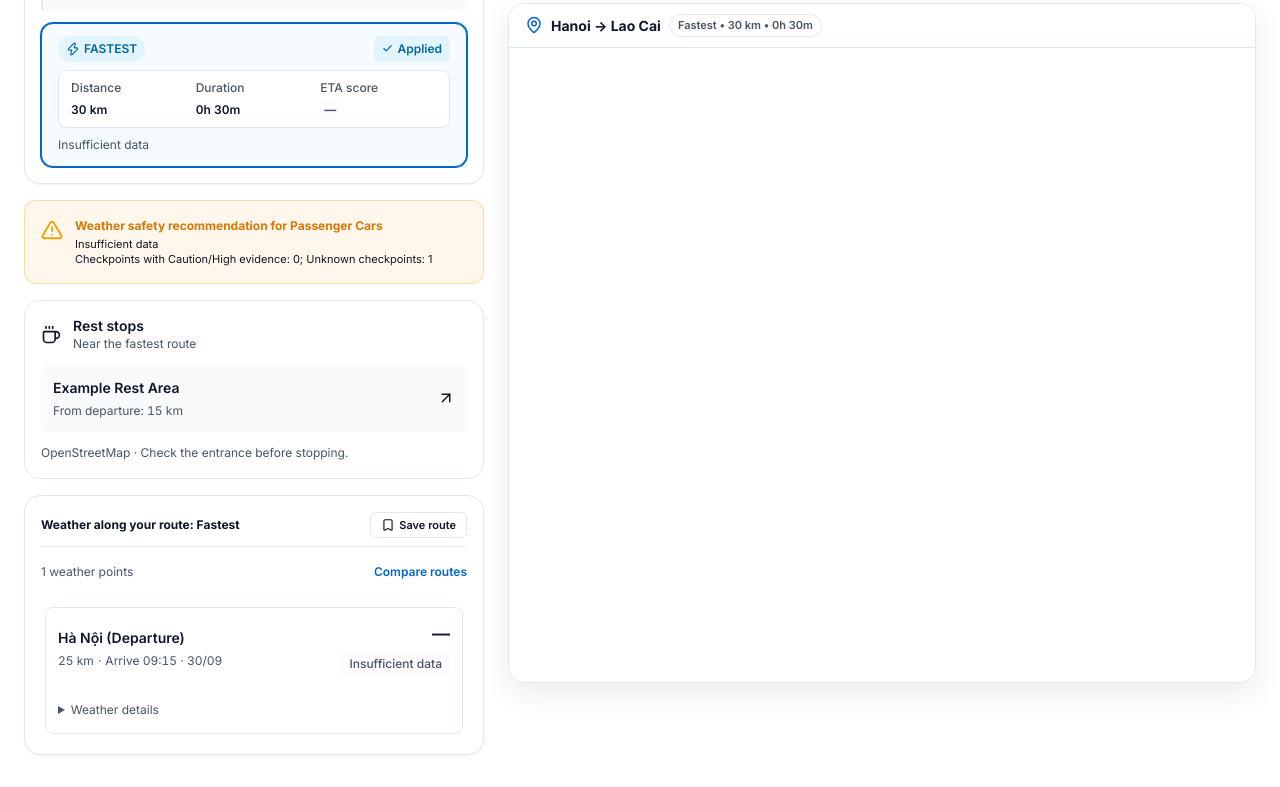
route request inputs › shows checkpoint risk, readable evidence gaps and exact Vietnam ETA
(page scrolled)
Expected: the text "Insufficient data" is shown, left=342, top=651, right=450, bottom=677
Expected: the text "25 km" is shown, left=58, top=652, right=94, bottom=670
Click the heading "Weather details": coordinates (115, 710) left=71, top=702, right=159, bottom=717
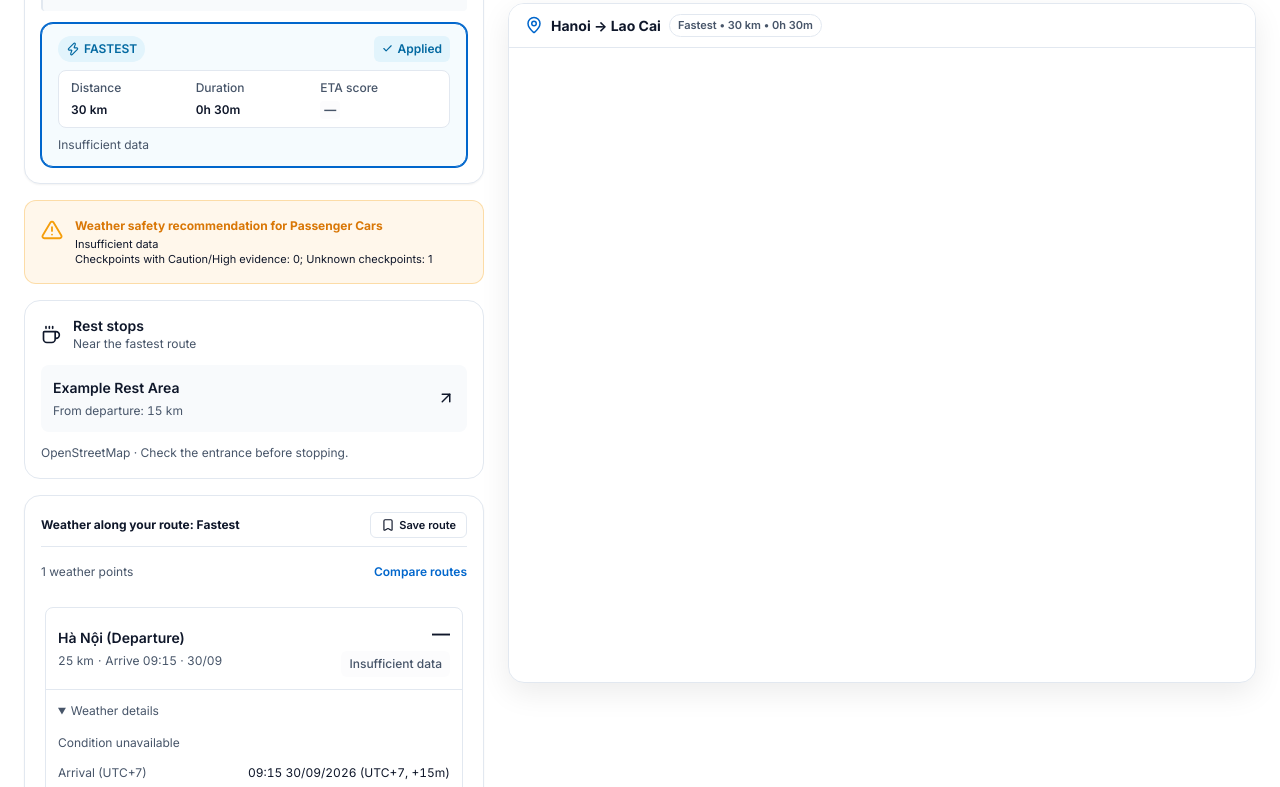
Expected: the text "OpenStreetMap · Check the entrance before stopping." is shown, left=41, top=445, right=348, bottom=460
Result: the text "09:15 30/09/2026 (UTC+7, +15m)" is shown at left=248, top=764, right=450, bottom=782
